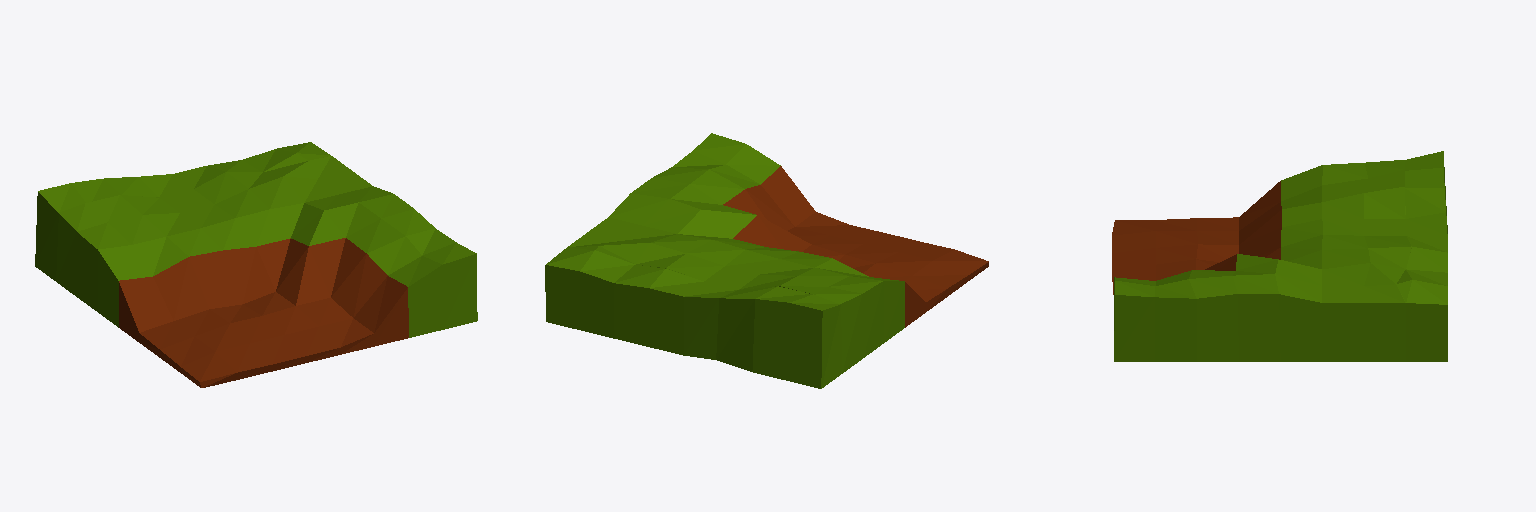
The model's file is ground.obj.
The picture shows the model from 3 angles: view 1: azimuth 30°, elevation 25°; view 2: azimuth 150°, elevation 25°; view 3: azimuth 270°, elevation 25°; orthographic projection.
Parts seen in each view (by area): view 1: Plane.001; view 2: Plane.001; view 3: Plane.001.
Boxes of the visible parts, x1=… form: Plane.001: x1=35, y1=142, x2=477, y2=387; Plane.001: x1=545, y1=133, x2=988, y2=388; Plane.001: x1=1112, y1=151, x2=1447, y2=361.
Size of the model in its own units: 69.05 by 18.28 by 72.57.